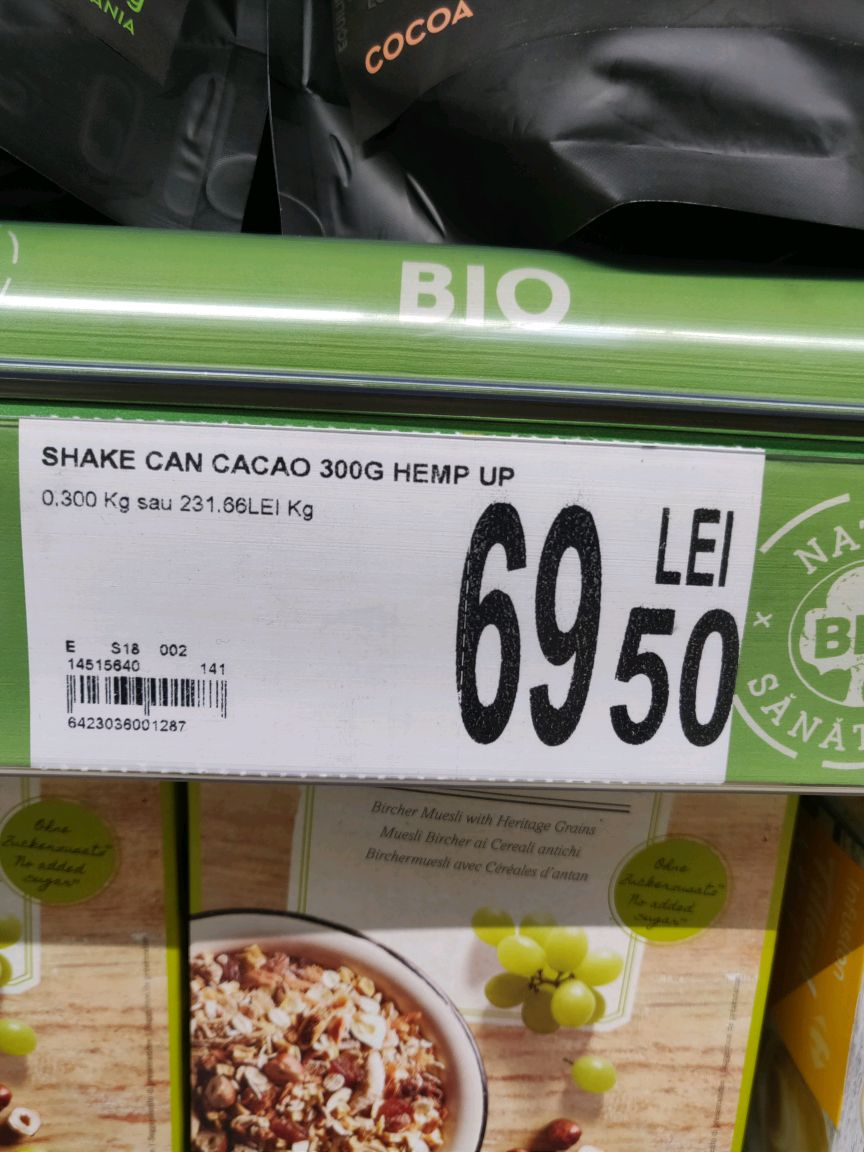price_bani: (608, 598, 743, 754)
price_lei: (442, 497, 609, 750)
price_tag: (10, 409, 784, 810)
product_id: (58, 716, 200, 736)
product_name: (33, 430, 522, 491)
